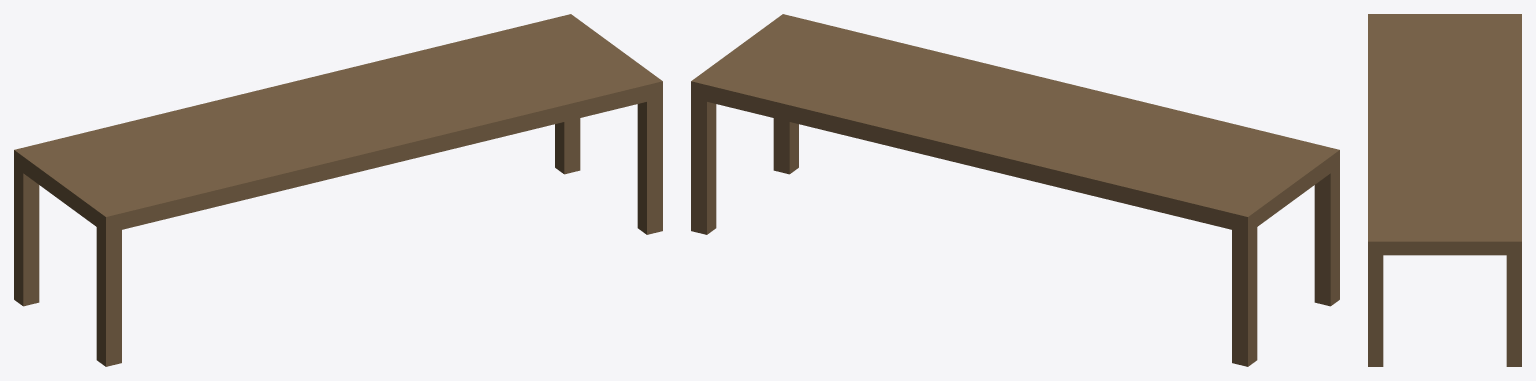
The model's file is bench01.fbx.
The picture shows the model from 3 angles, left to right: view 1: azimuth 30°, elevation 25°; view 2: azimuth 150°, elevation 25°; view 3: azimuth 270°, elevation 25°; orthographic projection. The views are drawn at different scales.
Visible parts, largest first — view 1: bench; view 2: bench; view 3: bench.
Boxes of the visible parts, left/top/right/bottom form: bench: left=14, top=14, right=662, bottom=366; bench: left=691, top=14, right=1339, bottom=366; bench: left=1368, top=14, right=1521, bottom=366.
Size of the model in its own units: 0.7 by 0.18 by 0.2.
